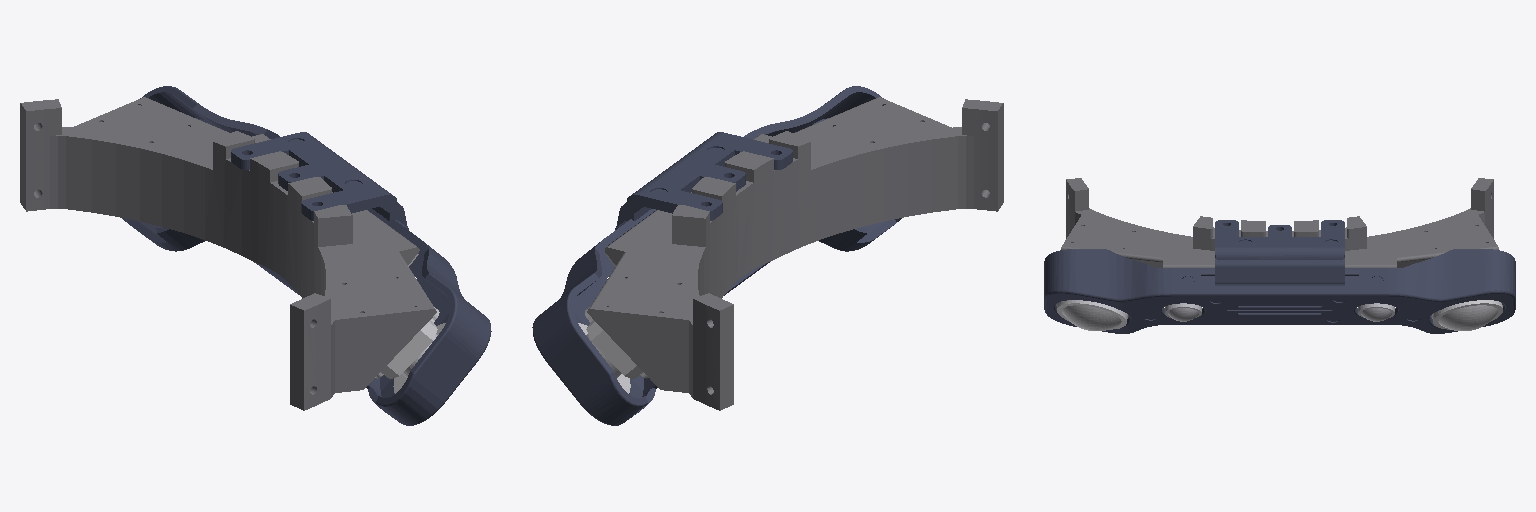
The robot description file, URDF, robot "head_ring_3_0":
<?xml version='1.0' encoding='utf-8'?>
<robot name="head_ring_3_0">
  <link name="base">
    <visual name="infrared_1">
      <origin xyz="0 0 0" rpy="0 0 0" />
      <geometry>
        <mesh filename="package://head_ring_description/meshes/infrared_1.stl" scale="1 1 1" />
      </geometry>
      <material name="infrared_1_material">
        <color rgba="0.72 0.72 0.75 1" />
      </material>
    </visual>
    <collision name="infrared_1">
      <geometry>
        <mesh filename="package://head_ring_description/meshes/infrared_1.stl" scale="1 1 1" />
      </geometry>
    </collision>
    <visual name="fisheye_left">
      <origin xyz="0 0 0" rpy="0 0 0" />
      <geometry>
        <mesh filename="package://head_ring_description/meshes/fisheye_left.stl" scale="1 1 1" />
      </geometry>
      <material name="fisheye_left_material">
        <color rgba="0.78 0.78 0.80 1" />
      </material>
    </visual>
    <collision name="fisheye_left">
      <geometry>
        <mesh filename="package://head_ring_description/meshes/fisheye_left.stl" scale="1 1 1" />
      </geometry>
    </collision>
    <visual name="head_ring">
      <origin xyz="0 0 0" rpy="0 0 0" />
      <geometry>
        <mesh filename="package://head_ring_description/meshes/head_ring.stl" scale="1 1 1" />
      </geometry>
      <material name="head_ring_material">
        <color rgba="0.50 0.50 0.52 1" />
      </material>
    </visual>
    <collision name="head_ring">
      <geometry>
        <mesh filename="package://head_ring_description/meshes/head_ring.stl" scale="1 1 1" />
      </geometry>
    </collision>
    <visual name="infrared_2">
      <origin xyz="0 0 0" rpy="0 0 0" />
      <geometry>
        <mesh filename="package://head_ring_description/meshes/infrared_2.stl" scale="1 1 1" />
      </geometry>
      <material name="infrared_2_material">
        <color rgba="0.72 0.72 0.75 1" />
      </material>
    </visual>
    <collision name="infrared_2">
      <geometry>
        <mesh filename="package://head_ring_description/meshes/infrared_2.stl" scale="1 1 1" />
      </geometry>
    </collision>
    <visual name="camera_housing">
      <origin xyz="0 0 0" rpy="0 0 0" />
      <geometry>
        <mesh filename="package://head_ring_description/meshes/camera_housing.stl" scale="1 1 1" />
      </geometry>
      <material name="camera_housing_material">
        <color rgba="0.32 0.34 0.42 1" />
      </material>
    </visual>
    <collision name="camera_housing">
      <geometry>
        <mesh filename="package://head_ring_description/meshes/camera_housing.stl" scale="1 1 1" />
      </geometry>
    </collision>
    <visual name="fisheye_right">
      <origin xyz="0 0 0" rpy="0 0 0" />
      <geometry>
        <mesh filename="package://head_ring_description/meshes/fisheye_right.stl" scale="1 1 1" />
      </geometry>
      <material name="fisheye_right_material">
        <color rgba="0.78 0.78 0.80 1" />
      </material>
    </visual>
    <collision name="fisheye_right">
      <geometry>
        <mesh filename="package://head_ring_description/meshes/fisheye_right.stl" scale="1 1 1" />
      </geometry>
    </collision>
  </link>
  <link name="left_cam" />
  <joint name="base_to_left_cam" type="fixed">
    <parent link="base" />
    <child link="left_cam" />
    <origin xyz="-0.018232200227934 -0.067545877323258 0.011136163289632" rpy="0.000000000000023 0.785398163397533 -0.261799387799371" />
  </joint>
</robot>

--- What the picture shows (computed from the rendered views, not written in the file) ---
The picture shows the robot from 3 angles, left to right: view 1: azimuth 30°, elevation 25°; view 2: azimuth 150°, elevation 25°; view 3: azimuth 270°, elevation 25°; orthographic projection.
Model head_ring_3_0 with 2 links and 1 joints (1 fixed), rooted at base, posed all joints at 0.
Visible links, largest first — view 1: base; view 2: base; view 3: base.
Link boxes in pixels (x1,y1,x2,y2): base: (20,86,491,425); base: (532,86,1003,425); base: (1044,178,1515,333).
Bounding box of the posed robot: 0.0705 × 0.178 × 0.0475 m (x, y, z).
6 mesh visuals loaded from 6 distinct referenced files (6 binary STL).
